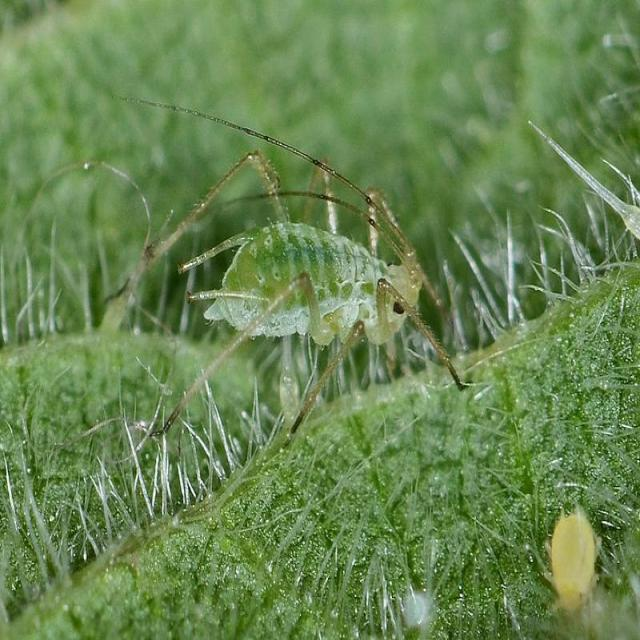Aphids: (101, 82, 498, 486)
